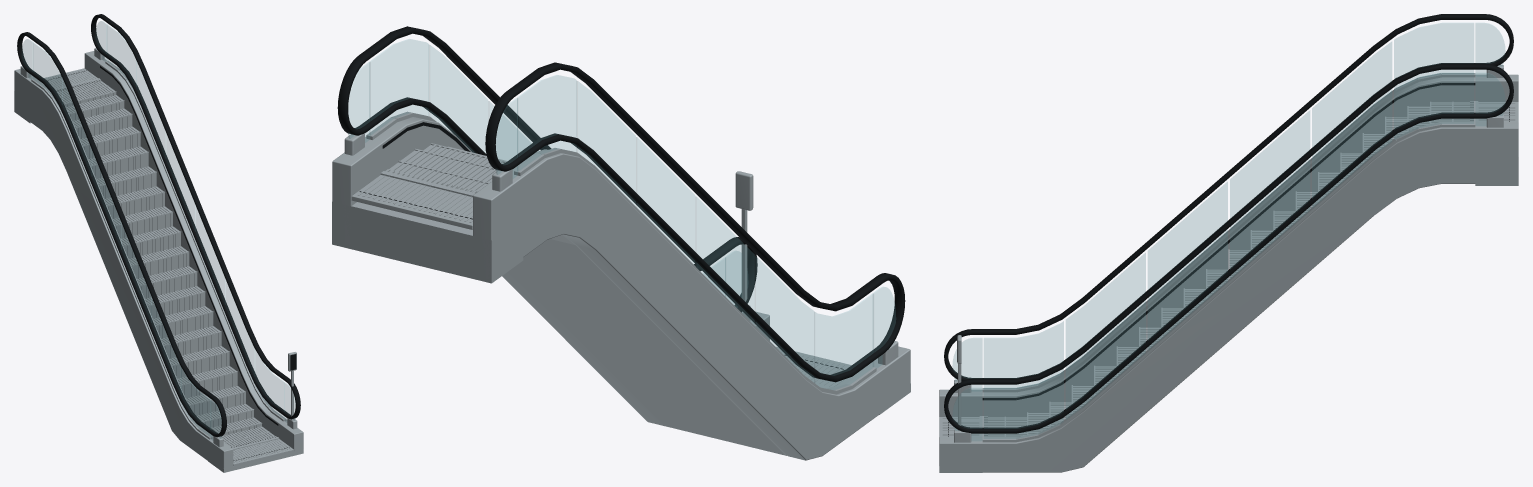
3 renders of one model, left to right at view 1: azimuth 30°, elevation 25°; view 2: azimuth 150°, elevation 25°; view 3: azimuth 270°, elevation 25°, orthographic. The views are drawn at different scales.
Visible parts, largest first — view 1: FRAME_Chassis, BALUSTRADE_Glass, HANDRAIL_Belts, LANDING_Plates, STEP_011, STEP_010, STEP_018, STEP_008, STEP_009, STEP_012, STEP_017, STEP_014 (+14 smaller); view 2: FRAME_Chassis, BALUSTRADE_Glass, HANDRAIL_Belts, LANDING_Plates, STEP_021, SIGNAGE_BlankPost, STEP_022, COMB_Plates, STEP_020; view 3: FRAME_Chassis, BALUSTRADE_Glass, HANDRAIL_Belts, LANDING_Plates.
Part boxes in pixels (x1,y1,x2,y2): FRAME_Chassis: (14, 48, 303, 472); BALUSTRADE_Glass: (22, 21, 295, 440); HANDRAIL_Belts: (17, 14, 300, 460); LANDING_Plates: (44, 68, 293, 465); STEP_011: (137, 266, 197, 298); STEP_010: (145, 286, 205, 318); STEP_018: (80, 126, 140, 158); STEP_008: (161, 326, 221, 358); STEP_009: (153, 306, 213, 338); STEP_012: (129, 246, 189, 278); STEP_017: (88, 146, 148, 178); STEP_014: (112, 206, 172, 238); FRAME_Chassis: (332, 111, 910, 460); BALUSTRADE_Glass: (348, 39, 895, 389); HANDRAIL_Belts: (337, 26, 905, 382); LANDING_Plates: (351, 175, 851, 386); STEP_021: (401, 148, 498, 182); SIGNAGE_BlankPost: (735, 171, 753, 301); STEP_022: (389, 160, 489, 192); COMB_Plates: (380, 169, 830, 388); STEP_020: (423, 143, 506, 167); FRAME_Chassis: (939, 65, 1518, 472); BALUSTRADE_Glass: (952, 23, 1505, 440); HANDRAIL_Belts: (944, 14, 1513, 436); LANDING_Plates: (939, 102, 1518, 436).
Bounding box in the file's own units: 1.32 × 4.64 × 6.
